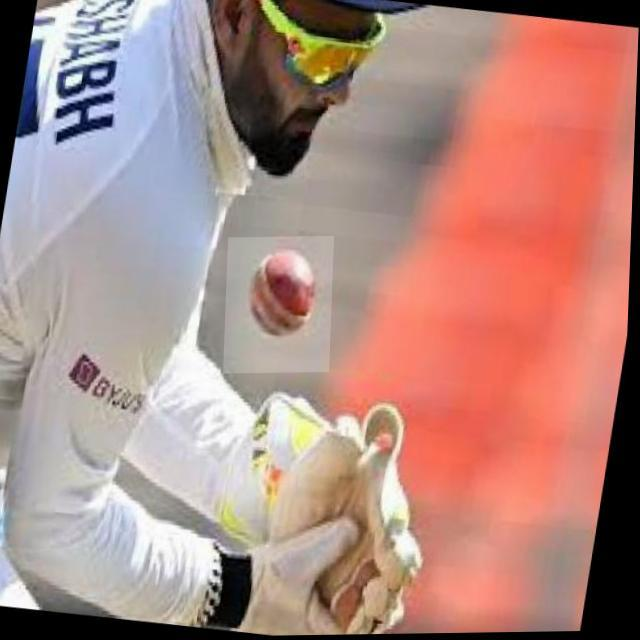-: (226, 237, 336, 374)
